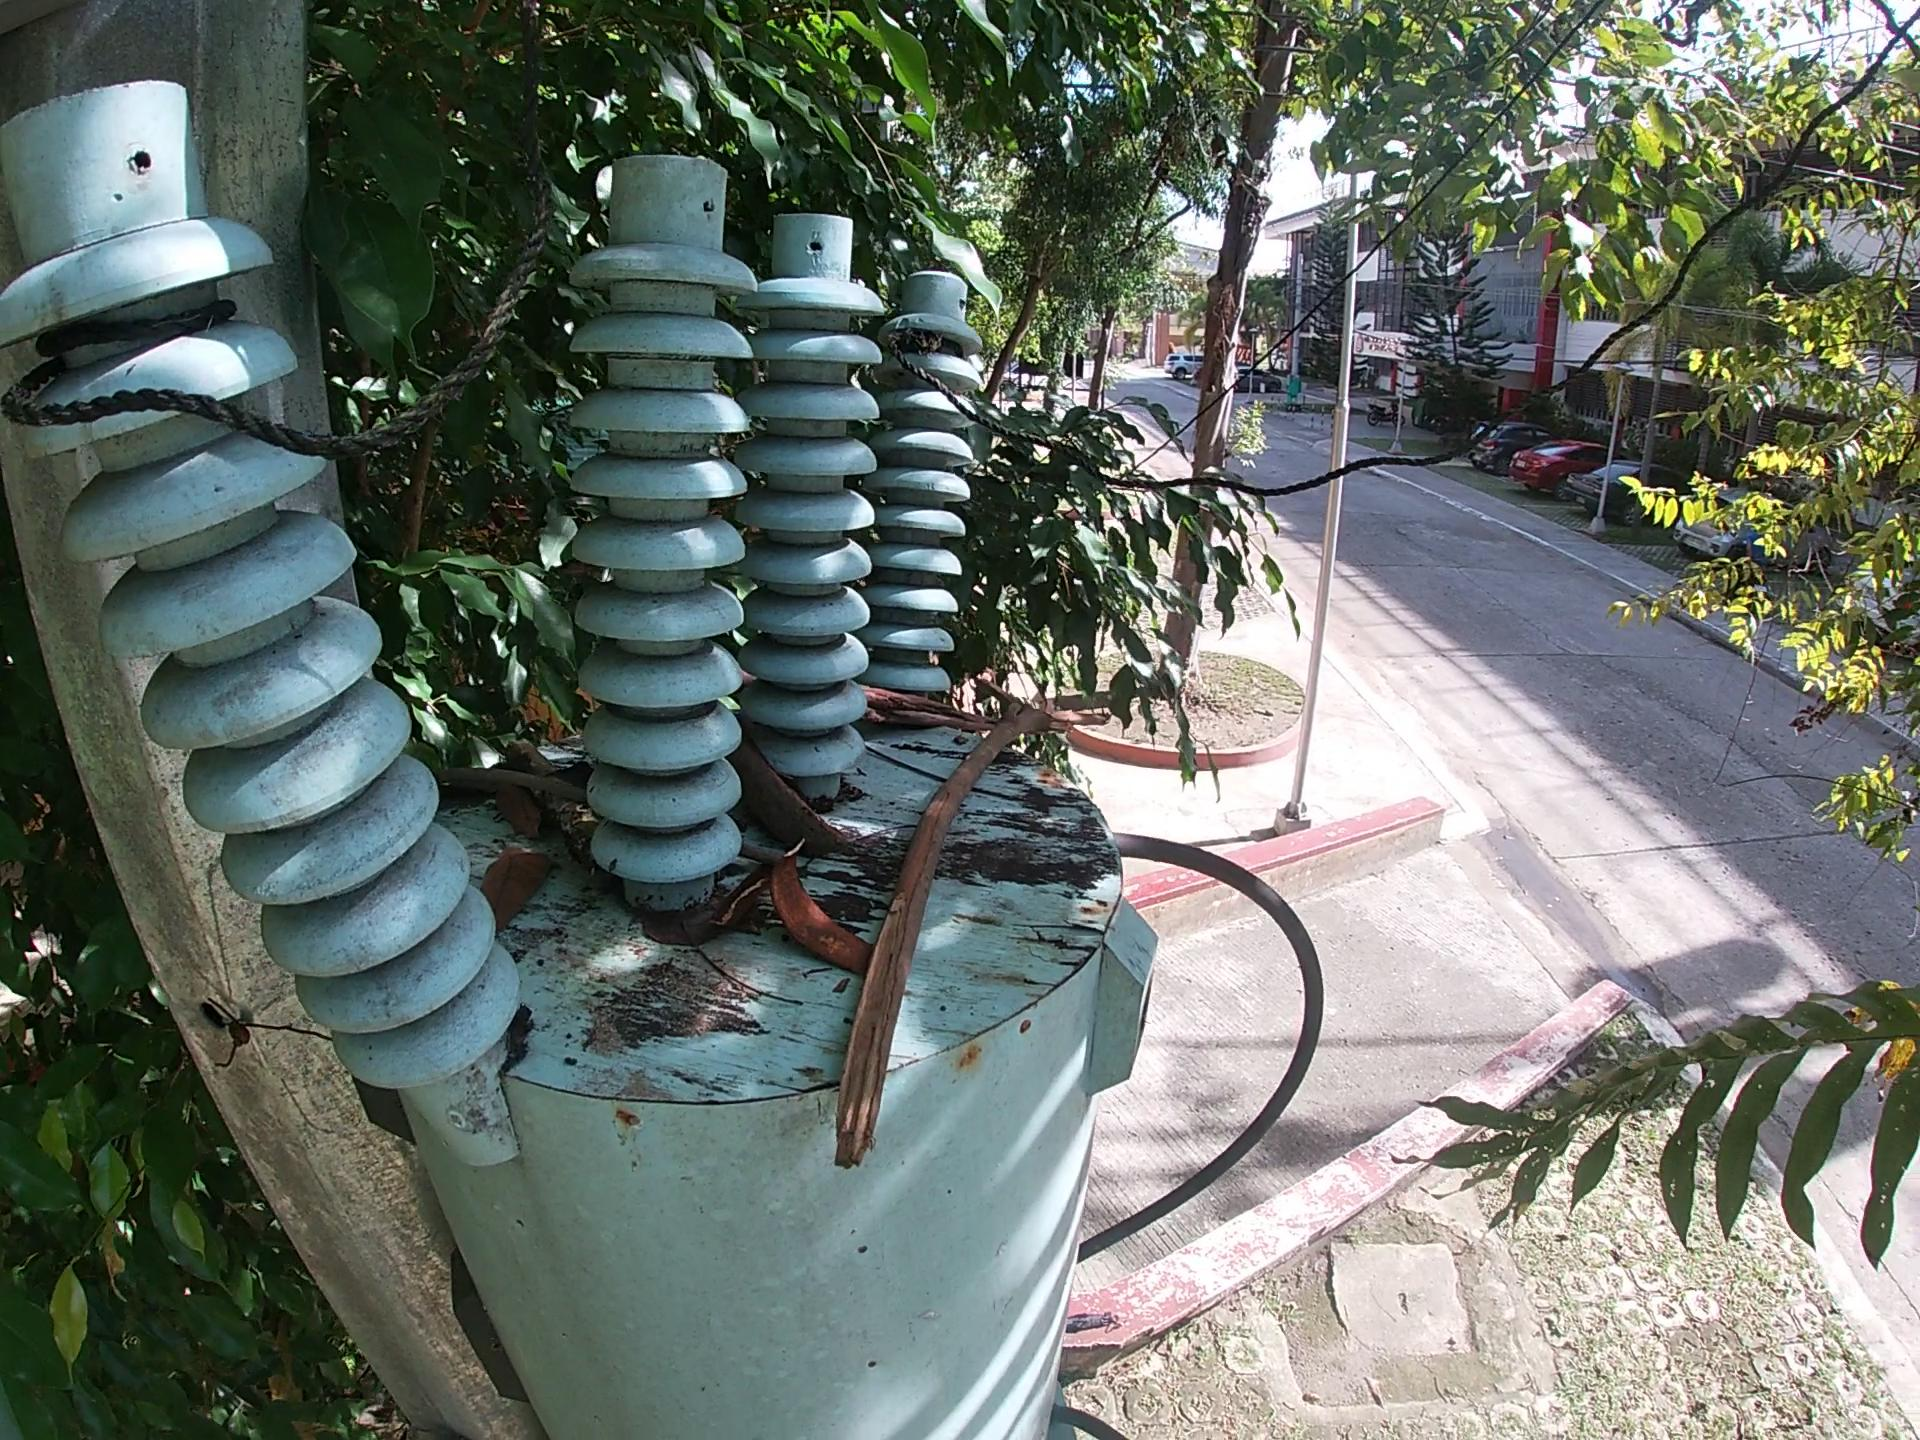leaf: (485, 849, 559, 914), (496, 796, 562, 858), (630, 900, 698, 961)
mahogany fruit: (735, 737, 871, 861), (760, 846, 866, 986)
tree branch: (815, 676, 1134, 1198), (499, 714, 602, 850), (437, 764, 599, 818), (689, 945, 815, 1010), (865, 679, 990, 737), (727, 846, 779, 936), (856, 740, 951, 787), (983, 787, 1063, 811), (735, 664, 751, 700)
